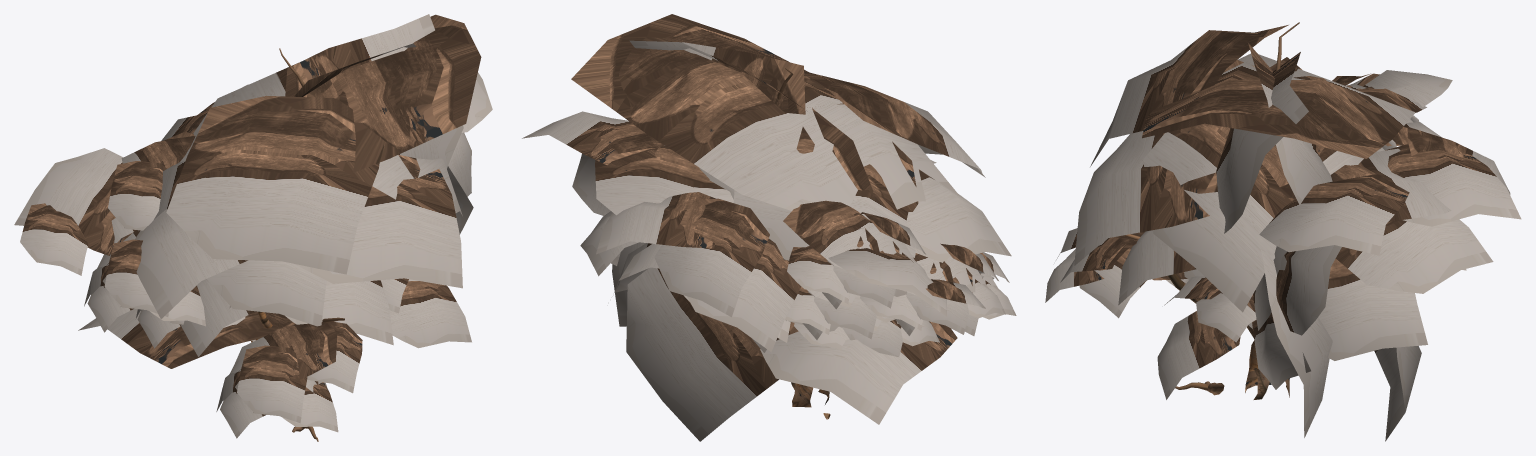
File: Tree3.fbx
3 views of the same model, side by side, from view 1: azimuth 30°, elevation 25°; view 2: azimuth 150°, elevation 25°; view 3: azimuth 270°, elevation 25° (orthographic). The views are drawn at different scales.
Parts seen in each view (by area): view 1: pPlane156_lambert2_0; view 2: pPlane156_lambert2_0; view 3: pPlane156_lambert2_0.
Boxes of the visible parts, <box> form: pPlane156_lambert2_0: <box>14,14,492,441</box>; pPlane156_lambert2_0: <box>522,14,1016,441</box>; pPlane156_lambert2_0: <box>1045,22,1521,441</box>.
Size of the model in its own units: 234 by 177 by 192.
